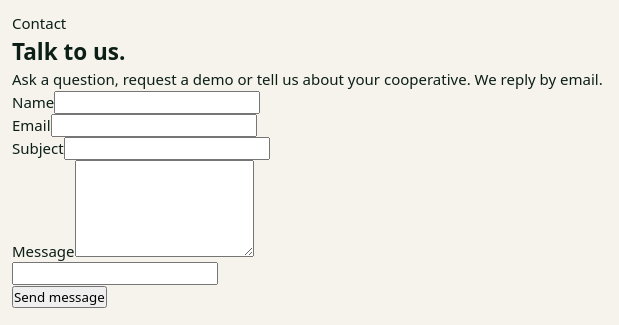
Scenario: Contact form › shows the confirmation with the typed address as plain text
This screenshot has width=619, height=325.
Type "Aline" into the field labelled "Name".
click(157, 102); type("Aline")  # box [54,91,260,114]
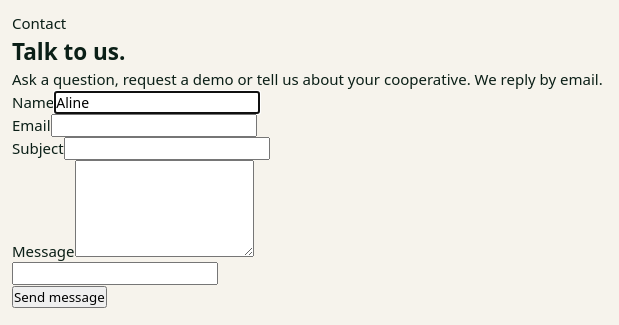
Type "aline+test@example.rw" into the field labelled "Email".
click(154, 125); type("aline+test@example.rw")  # box [50,114,256,137]
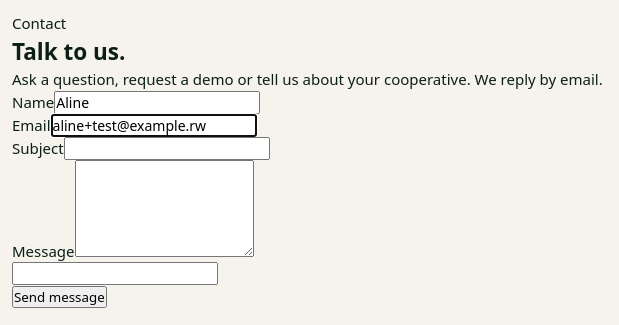
Type "Cooperative setup" into the field labelled "Subject".
click(167, 148); type("Cooperative setup")  # box [64,137,270,160]
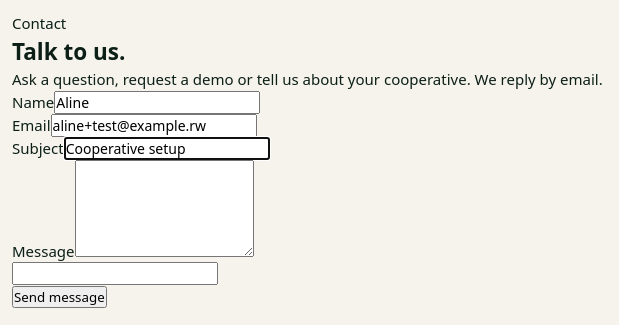
Type "We would like to start with twelve farmers." into the text box labelled "Message".
click(164, 208); type("We would like to start with twelve farmers.")  # box [74,160,254,257]
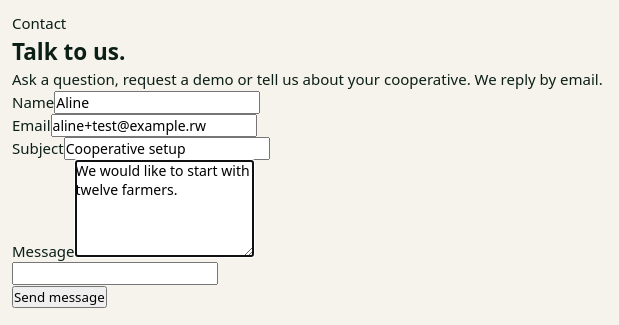
Click the button "Send message".
click(59, 297)  # box [12,286,107,308]
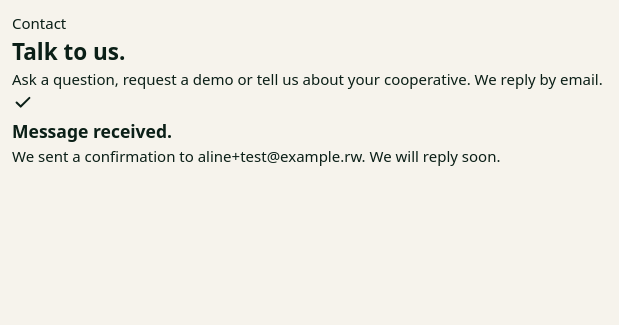
Check: the heading "Message received." is shown, box [12,119,172,143]
Check: the text "We sent a confirmation to aline+test@example.rw. We will reply soon." is shown, box [12,146,500,166]
